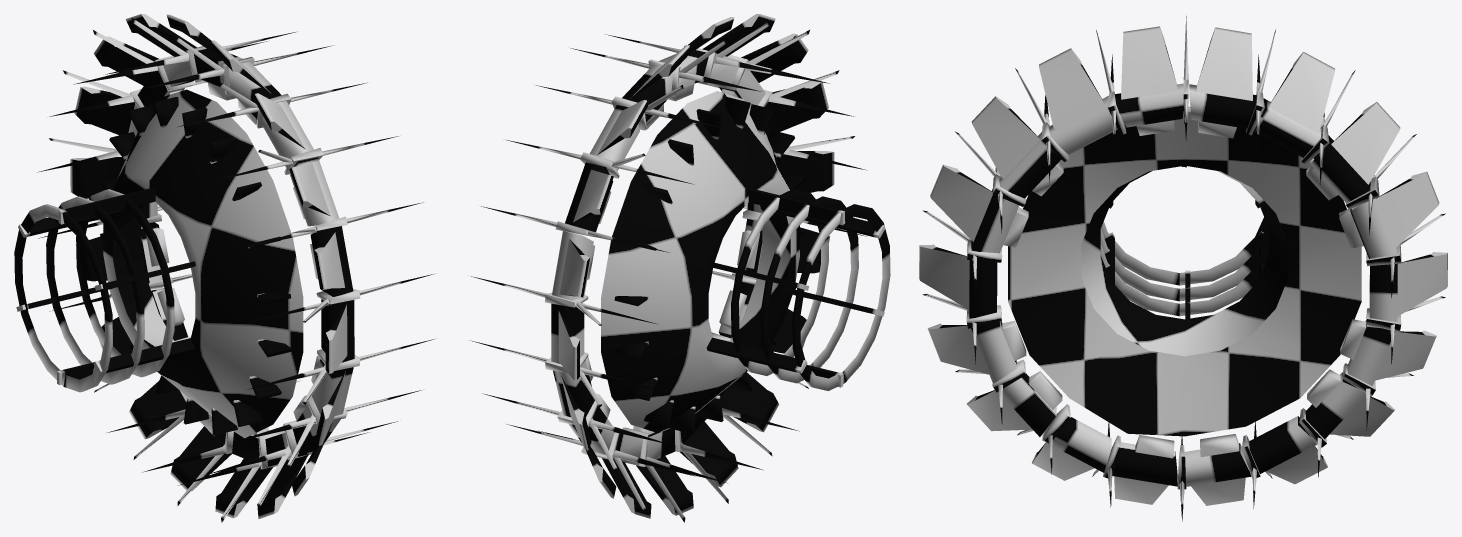
Rendered from galaxygate_lambda.obj.
3 views of the same model, side by side, from view 1: azimuth 30°, elevation 25°; view 2: azimuth 150°, elevation 25°; view 3: azimuth 270°, elevation 25° (orthographic). The views are drawn at different scales.
Parts seen in each view (by area): view 1: galaxygate_lambda; view 2: galaxygate_lambda; view 3: galaxygate_lambda.
Boxes of the visible parts, bbox=[...] form: galaxygate_lambda: bbox=[14, 14, 434, 522]; galaxygate_lambda: bbox=[471, 14, 890, 522]; galaxygate_lambda: bbox=[919, 16, 1447, 521].
Size of the model in its own units: 349 by 566 by 566.
Materials: 1 (1 with a texture image).
